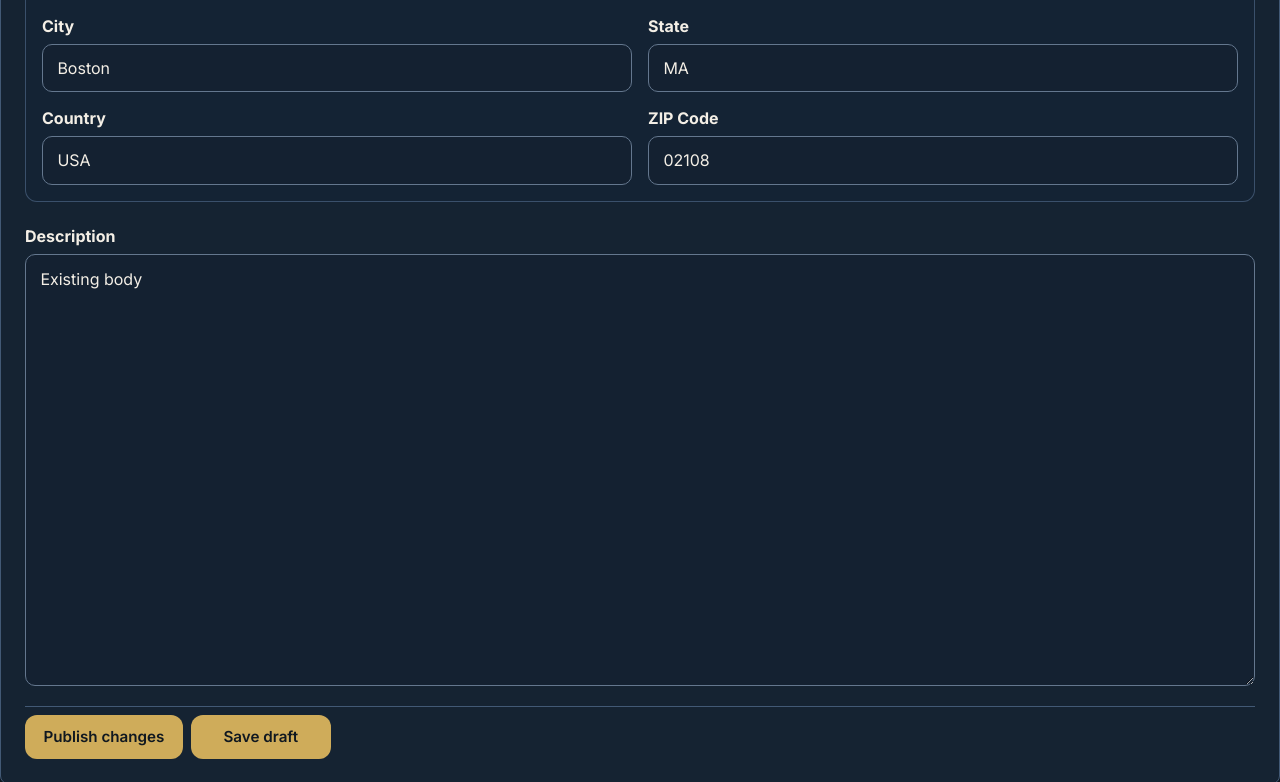
Test: EventEditorForm › maps API validation errors to inline field errors and scrolls to the first invalid field
(page scrolled)
Click the button "Publish changes": (104, 737) [25, 715, 183, 759]
(page scrolled)
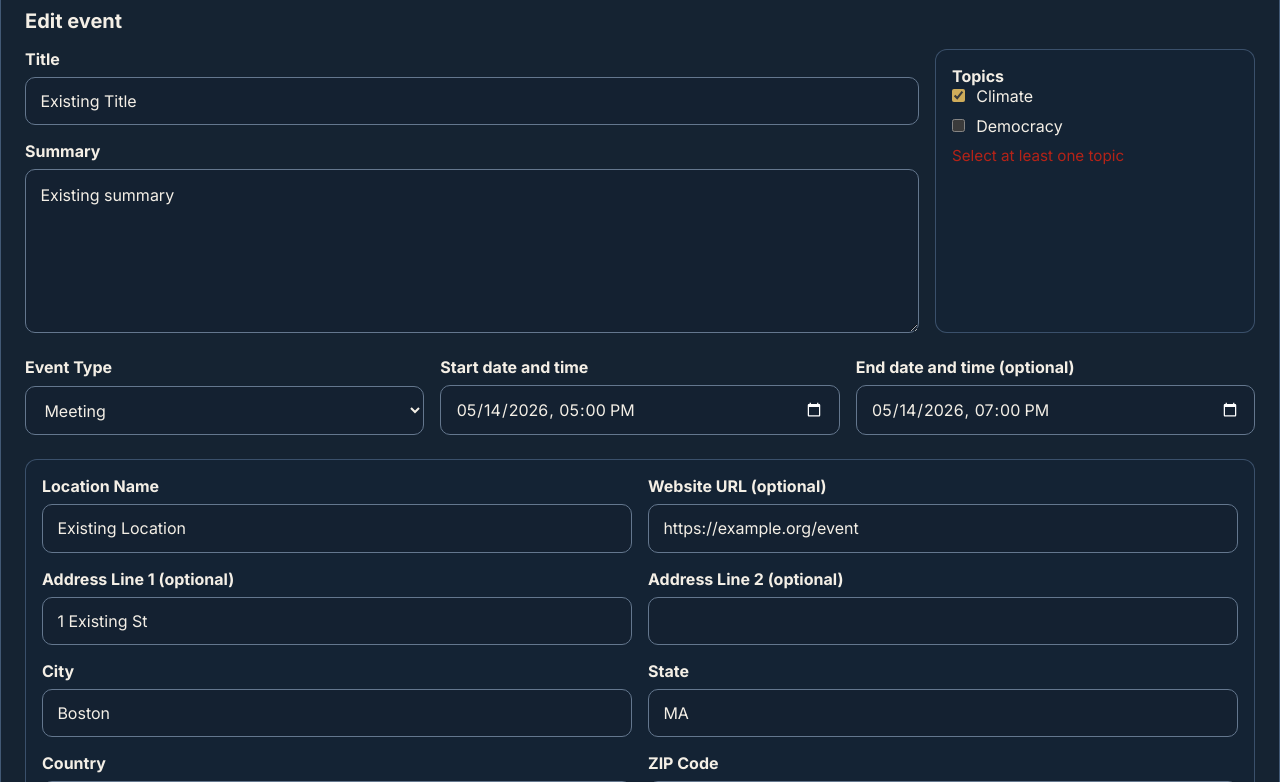
Result: the text "Select at least one topic" is shown at [952, 146, 1124, 165]
